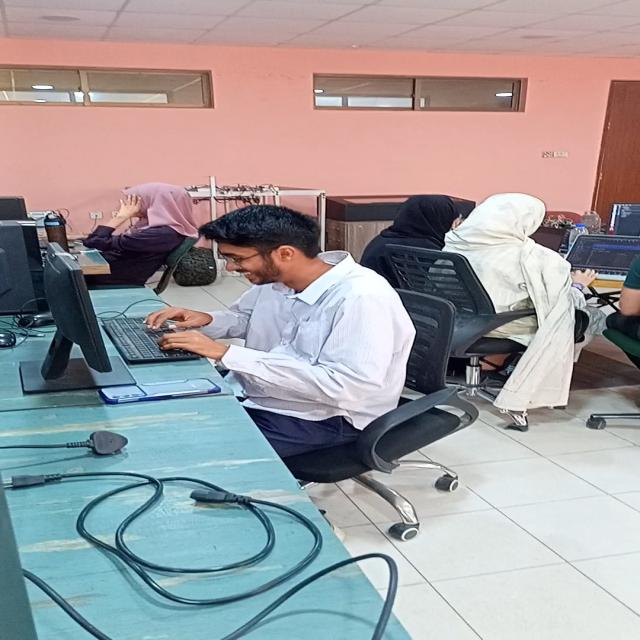dress: (206, 248, 418, 468)
